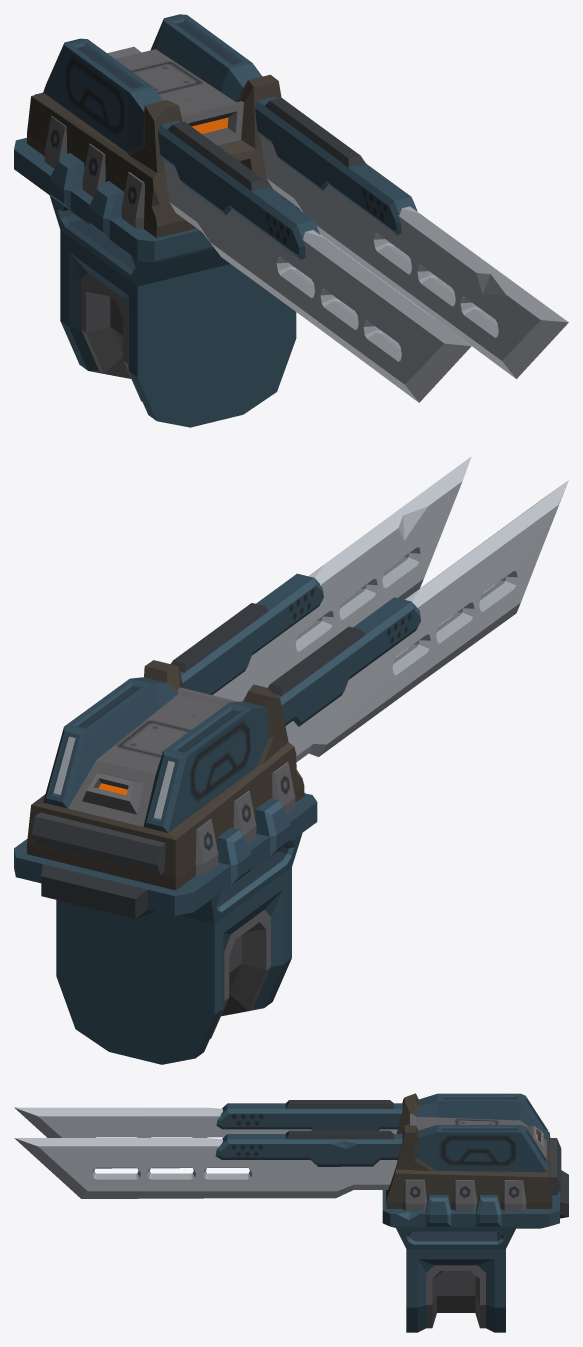
The model's file is SM_Mech_Arm_01_Weapon_Forearm_03.fbx.
3 renders of one model, top to bottom at view 1: azimuth 30°, elevation 25°; view 2: azimuth 150°, elevation 25°; view 3: azimuth 270°, elevation 25°, orthographic. The views are drawn at different scales.
Visible parts, largest first — view 1: SM_Mech_Arm_01_Weapon_Forearm_03; view 2: SM_Mech_Arm_01_Weapon_Forearm_03; view 3: SM_Mech_Arm_01_Weapon_Forearm_03.
Boxes of the visible parts, x1,y1,x2,y2 form: SM_Mech_Arm_01_Weapon_Forearm_03: [14, 14, 568, 427]; SM_Mech_Arm_01_Weapon_Forearm_03: [14, 456, 568, 1064]; SM_Mech_Arm_01_Weapon_Forearm_03: [14, 1093, 568, 1332].
Size of the model in its own units: 47.45 by 78.67 by 189.
